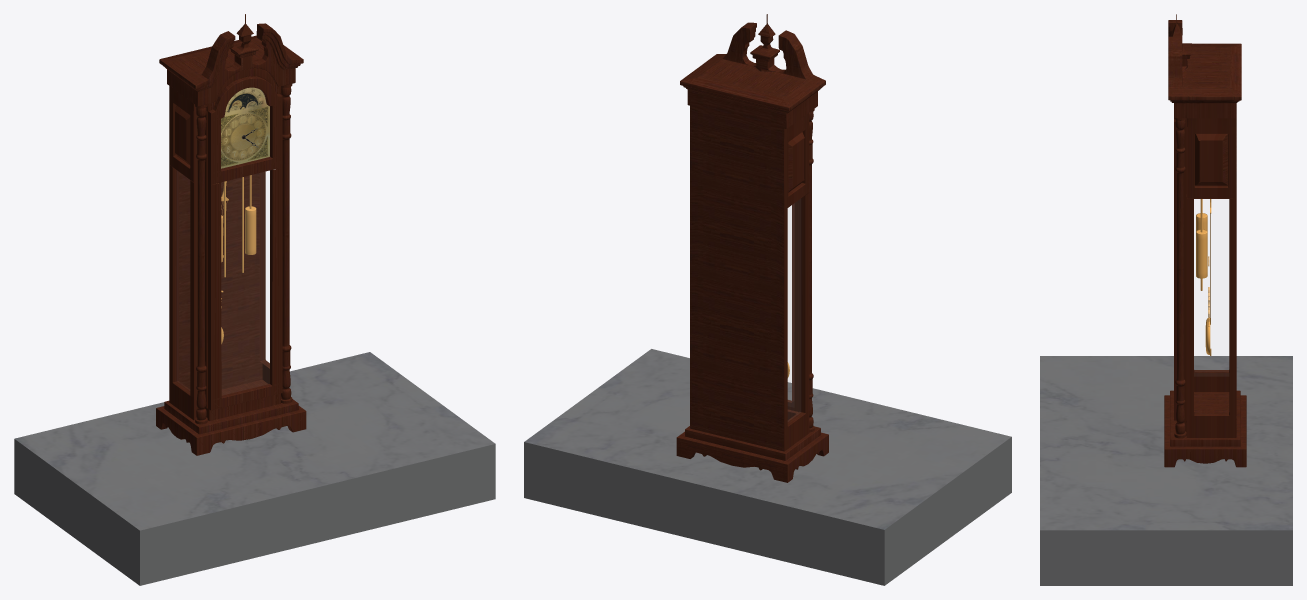
3 views of the same model, side by side, from view 1: azimuth 30°, elevation 25°; view 2: azimuth 150°, elevation 25°; view 3: azimuth 270°, elevation 25° (orthographic).
Visible parts, largest first — view 1: Cube, clock, pillars, face, Cylinder; view 2: Cube, clock, face, pillars; view 3: Cube, clock, pillars, Cylinder.
Part boxes in pixels (left/top/right/bottom): Cube: left=14, top=352, right=495, bottom=585; clock: left=156, top=14, right=306, bottom=455; pillars: left=195, top=84, right=292, bottom=424; face: left=221, top=87, right=269, bottom=168; Cylinder: left=221, top=175, right=256, bottom=277; Cube: left=524, top=349, right=1011, bottom=585; clock: left=676, top=14, right=828, bottom=482; face: left=788, top=204, right=793, bottom=406; pillars: left=809, top=109, right=814, bottom=432; Cube: left=1040, top=356, right=1292, bottom=585; clock: left=1164, top=14, right=1246, bottom=467; pillars: left=1174, top=118, right=1186, bottom=438; Cylinder: left=1196, top=199, right=1207, bottom=290.
Bounding box in the file's own units: 6.47 × 8.33 × 3.96.
Materials: 6 (4 with a texture image).
